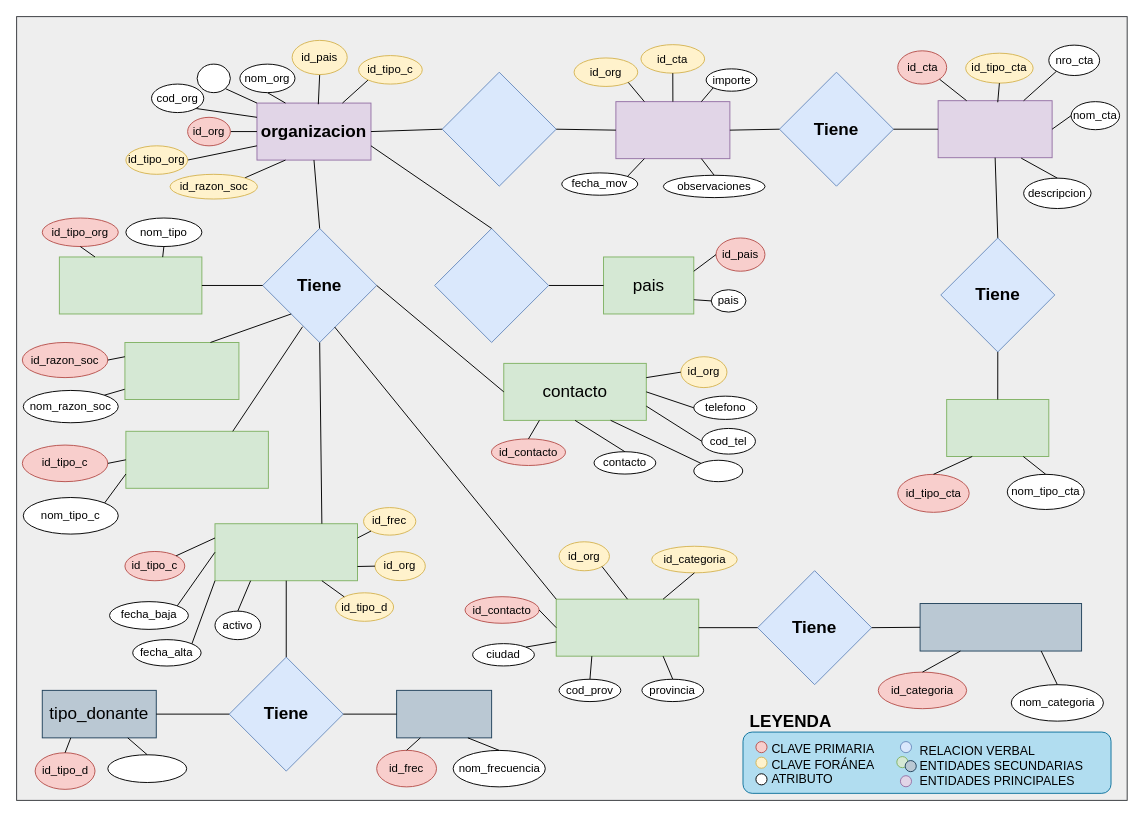
The diagram is 1144 pixels wide and 817 high, and some of its shapes have lost their labels. Here are the shapes that lost their labels. From the top down, the centre of each, then its label:
At point 213,78: "cuit".
At point 498,128: "Realiza".
At point 672,130: "movimiento".
At point 994,129: "cuenta".
At point 130,285: "tipo_organizacion".
At point 491,285: "Pertenece".
At point 181,370: "razon_social".
At point 997,427: "tipo_cuenta".
At point 196,459: "tipo_contribuyente".
At point 718,470: "email".
At point 285,552: "detalle_donante".
At point 627,627: "detalle_proveedor".
At point 1000,627: "categoria_proveedor".
At point 444,713: "frecuencia".
At point 147,768: "nom_tipo_d".
